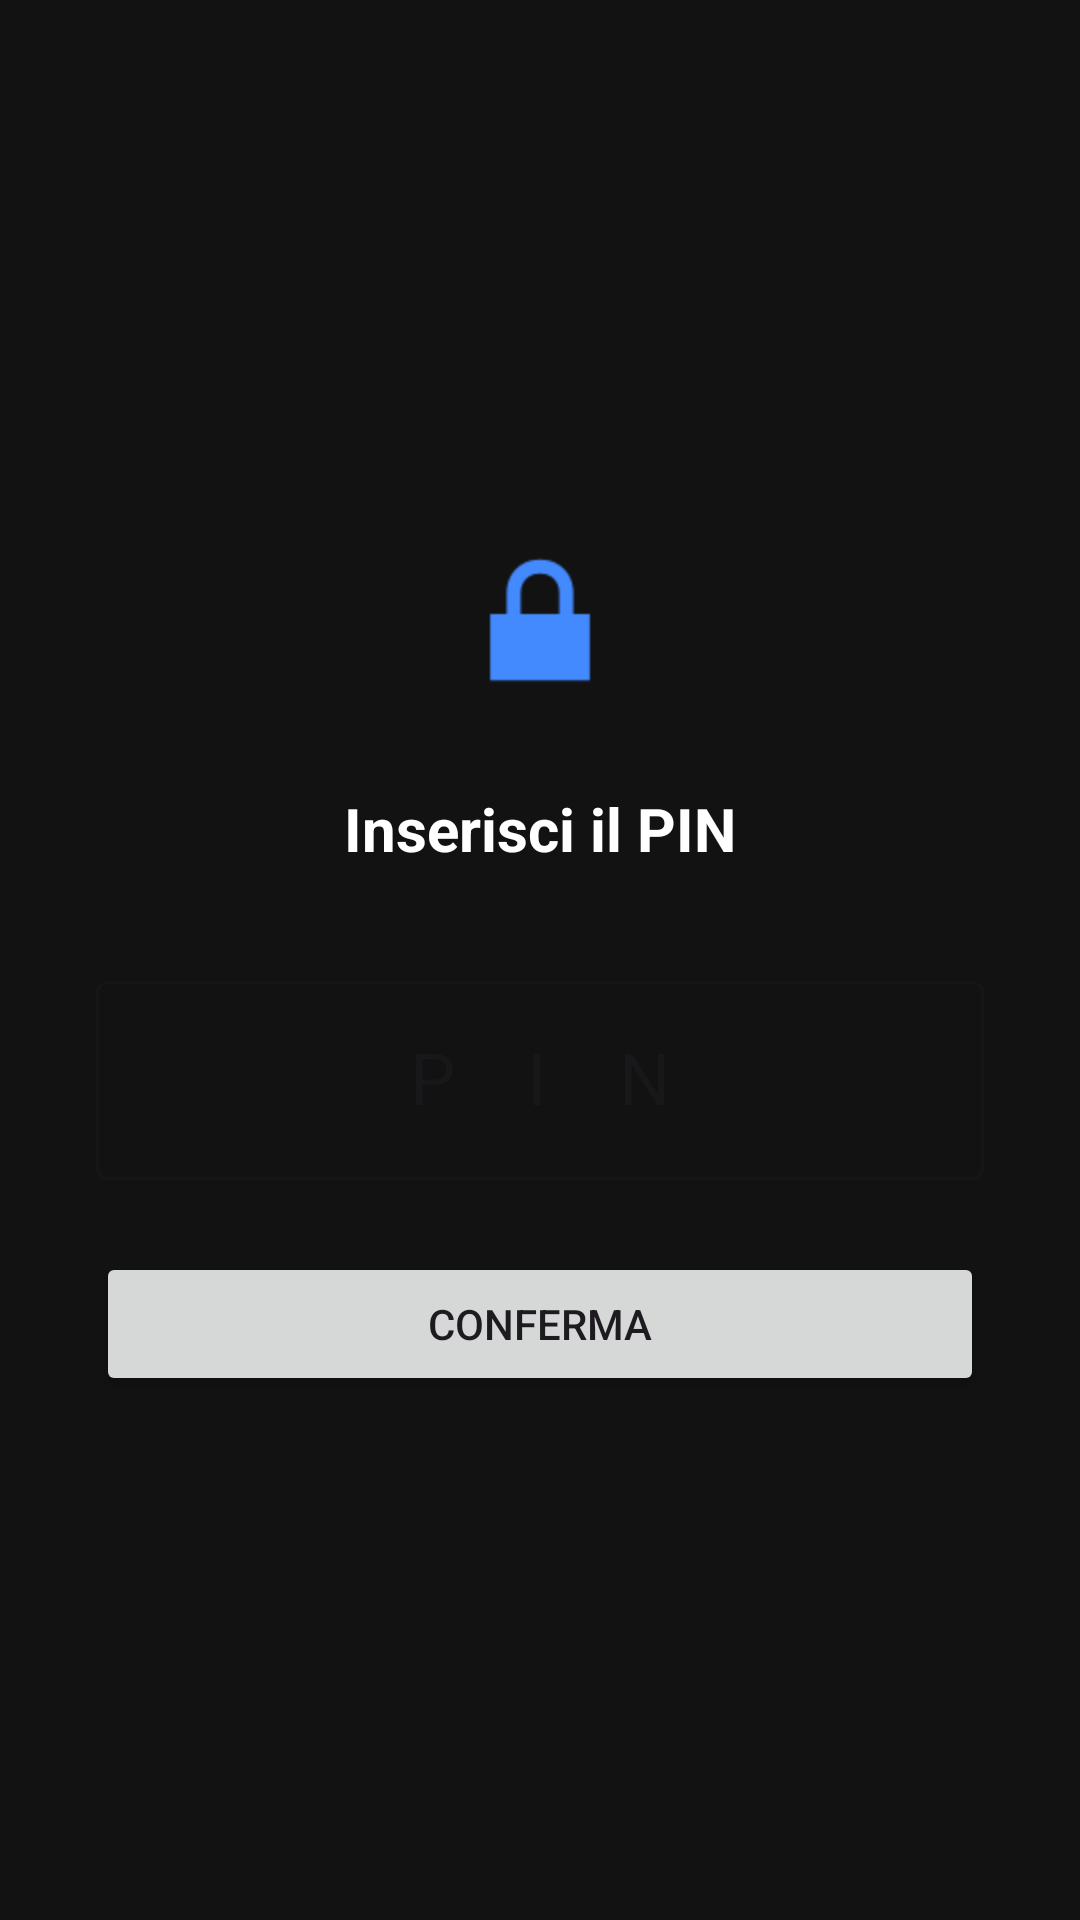

Icon click points for this 1080w x 1920h phone screenshot, format (x,y):
lock: (540,620)
